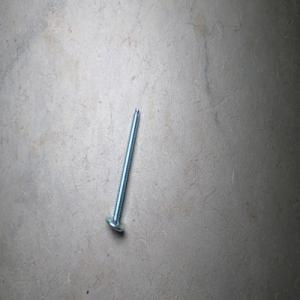Bolt: (104, 106, 140, 232)
